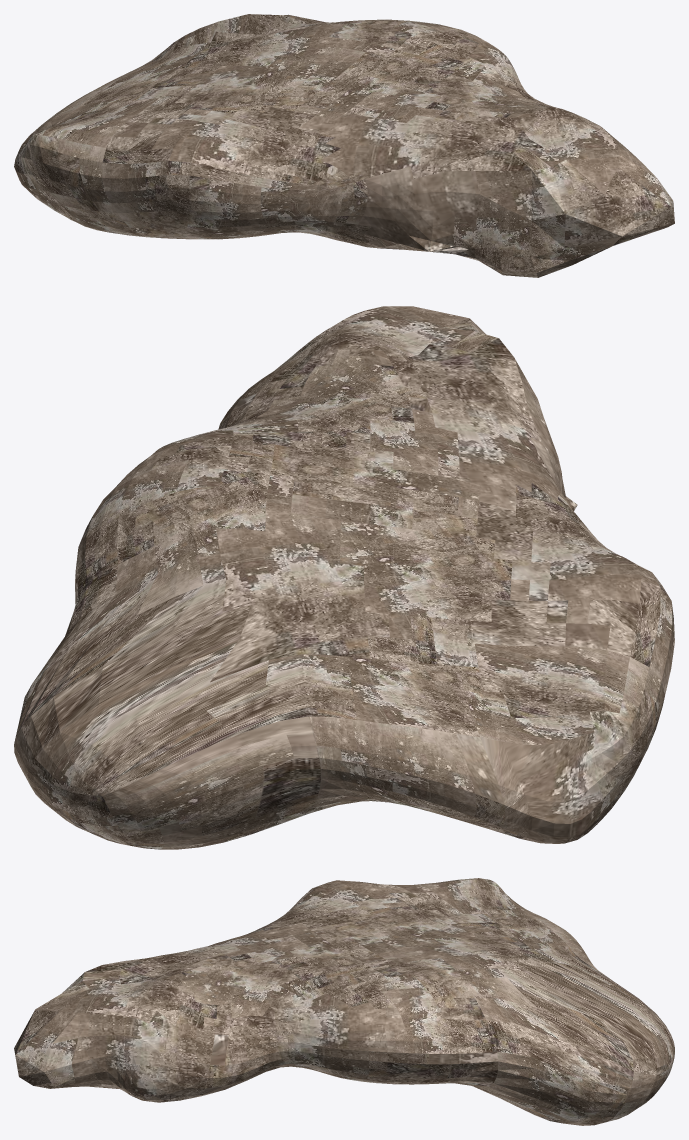
Rendered from Roca4.fbx.
3 renders of one model, top to bottom at view 1: azimuth 30°, elevation 25°; view 2: azimuth 150°, elevation 25°; view 3: azimuth 270°, elevation 25°, orthographic. The views are drawn at different scales.
Visible parts, largest first — view 1: Escombro4; view 2: Escombro4; view 3: Escombro4.
Part boxes in pixels (x1,y1,x2,y2): Escombro4: [14, 14, 674, 277]; Escombro4: [14, 306, 674, 849]; Escombro4: [14, 878, 674, 1125].
Size of the model in its own units: 365 by 139 by 502.
